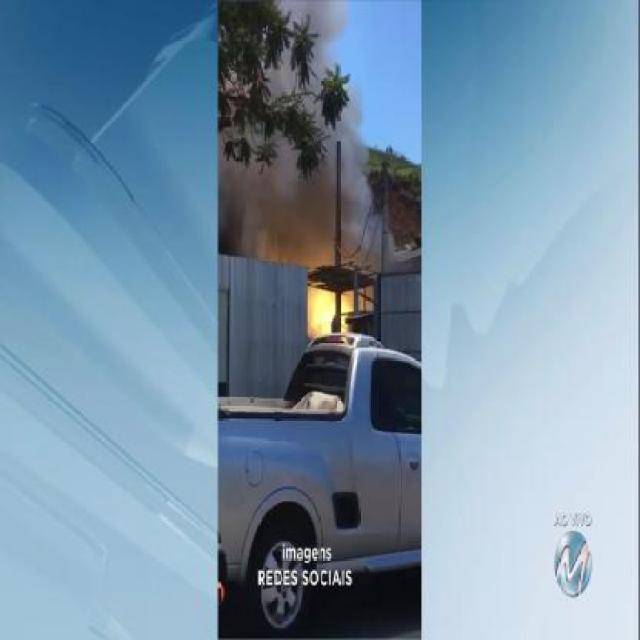Fire: (308, 286, 352, 336)
